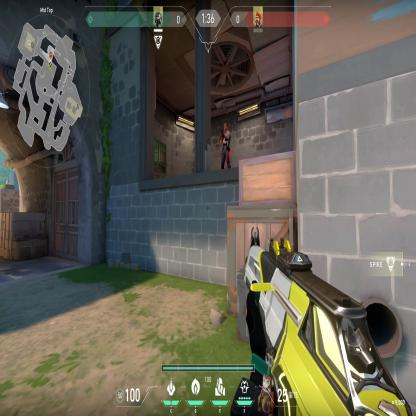enemy: (219, 120, 232, 172)
